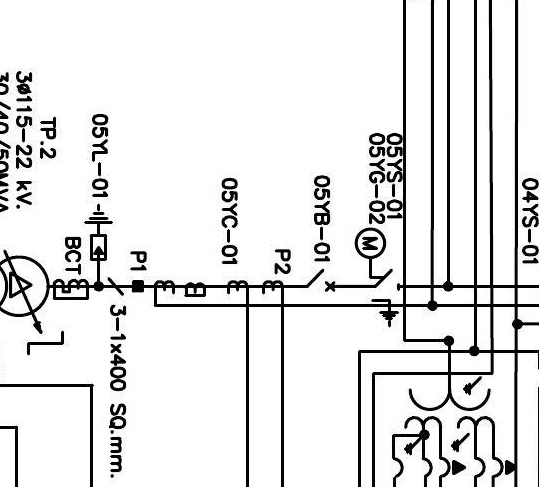115_3ways_ds_w_motor: (353, 227, 400, 328)
115_breaker: (305, 277, 335, 301)
115_la: (83, 203, 114, 262)
115_vt_1p: (403, 375, 517, 479)
